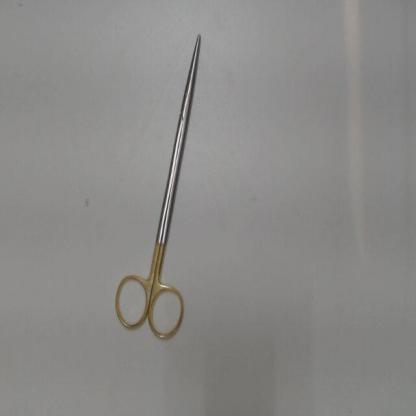7 Metzenbaum Scissors: (111, 30, 204, 347)
